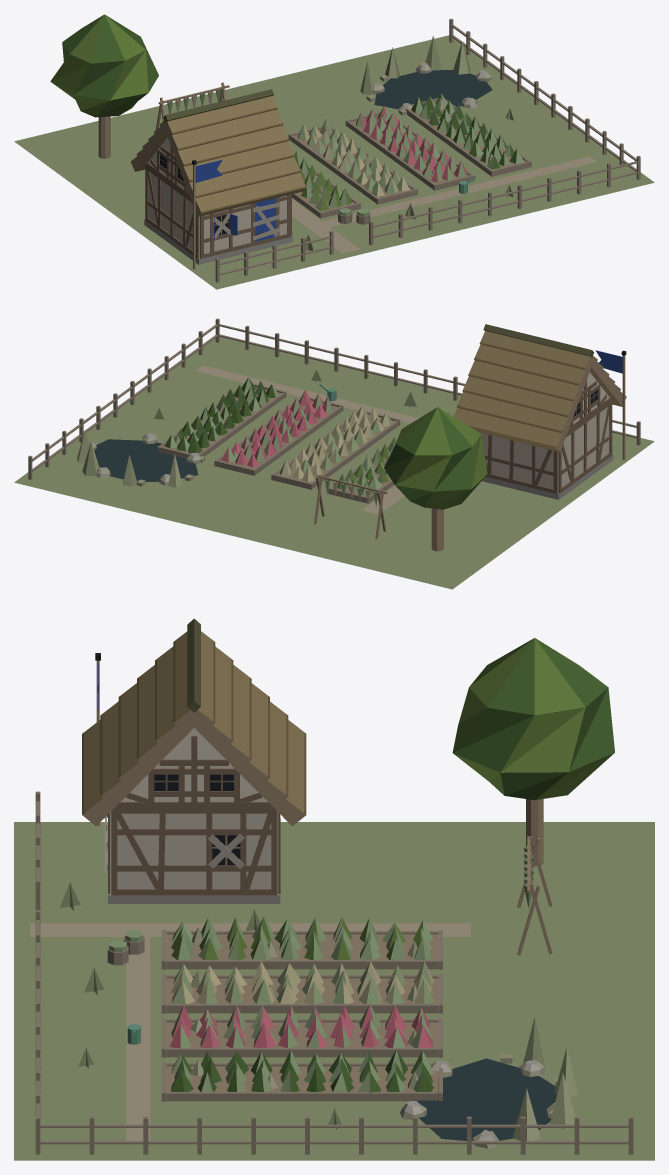
Rendered from kraeutergarten.glb.
The picture shows the model from 3 angles, top to bottom: view 1: azimuth 30°, elevation 25°; view 2: azimuth 150°, elevation 25°; view 3: azimuth 270°, elevation 25°; orthographic projection. The views are drawn at different scales.
Visible parts, largest first — view 1: Haus, Arbeit, Laubkrone_Haus, Leerstand, Fahne; view 2: Haus, Arbeit, Laubkrone_Haus, Fahne, Leerstand; view 3: Haus, Arbeit, Laubkrone_Haus, Leerstand.
Part boxes in pixels (x1=…): Haus: x1=14, y1=18, x2=654, y2=289; Arbeit: x1=155, y1=74, x2=523, y2=224; Laubkrone_Haus: x1=50, y1=14, x2=158, y2=117; Leerstand: x1=212, y1=98, x2=513, y2=251; Fahne: x1=192, y1=159, x2=222, y2=269; Haus: x1=14, y1=318, x2=654, y2=589; Arbeit: x1=136, y1=377, x2=453, y2=539; Laubkrone_Haus: x1=384, y1=407, x2=487, y2=509; Fahne: x1=595, y1=350, x2=626, y2=460; Leerstand: x1=154, y1=369, x2=416, y2=487; Haus: x1=14, y1=618, x2=654, y2=1160; Arbeit: x1=107, y1=836, x2=558, y2=1092; Laubkrone_Haus: x1=452, y1=638, x2=614, y2=800; Leerstand: x1=59, y1=816, x2=418, y2=1129.
Size of the model in its own units: 20 by 6.25 by 16.
